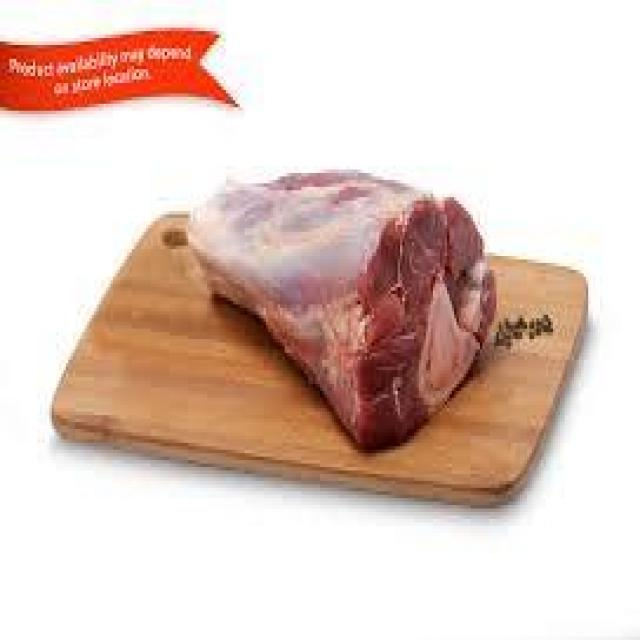Beef: (191, 145, 505, 472)
